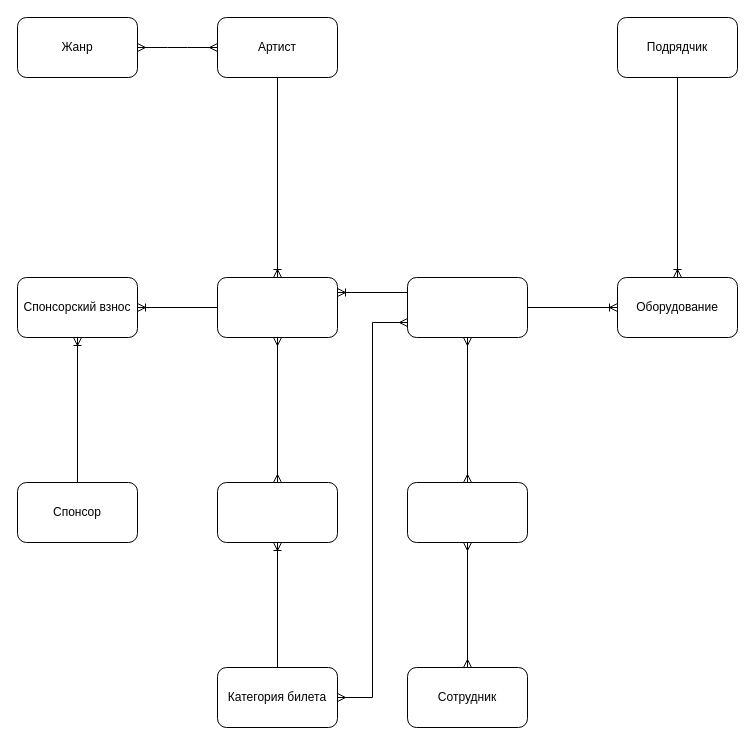
This 755x745 diagram has some shape labels left out. Each missing label, with the box of its shape:
Билет: (216, 482, 338, 542)
Выступление: (216, 276, 338, 338)
Смена: (406, 482, 528, 542)
Сцена: (406, 276, 528, 338)
